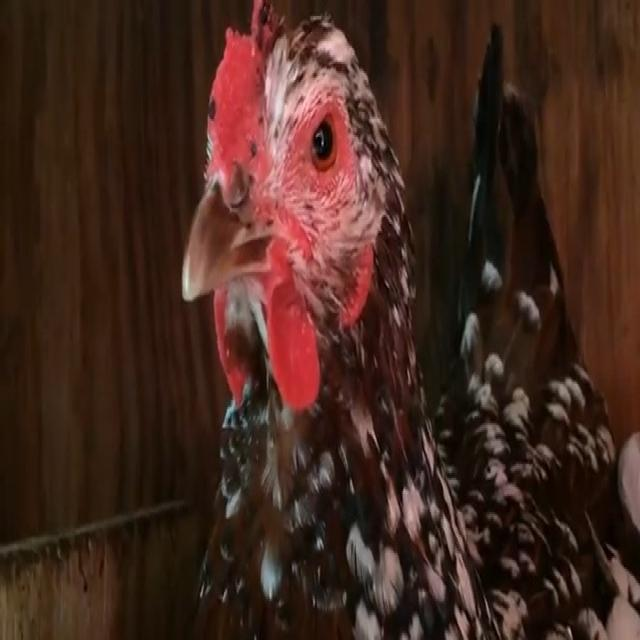menacing: (169, 0, 634, 640)
